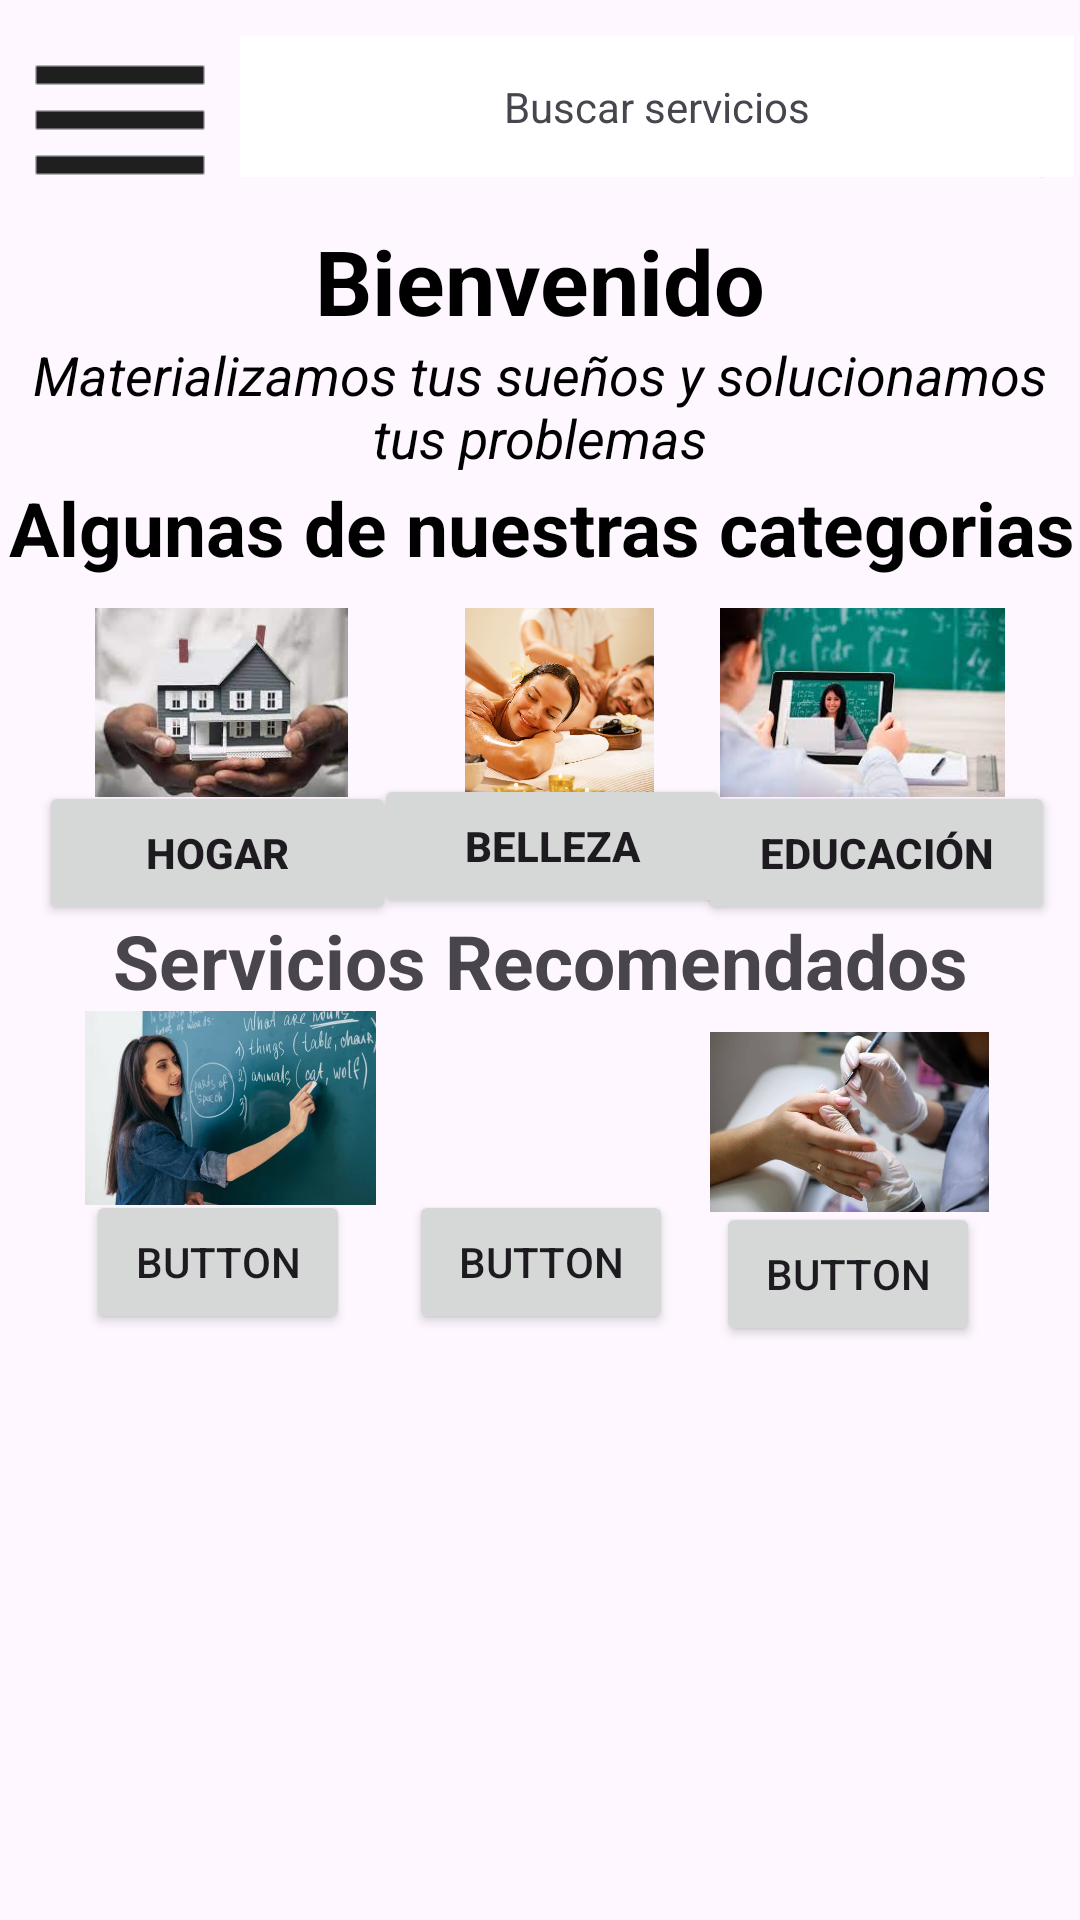

Screen size 1080px×1920px. Icon name, then its center in pixels as (x=x, y=y):
clases: (x=230, y=1108)
manicurista: (x=849, y=1122)
menu desplegable: (x=120, y=120)
